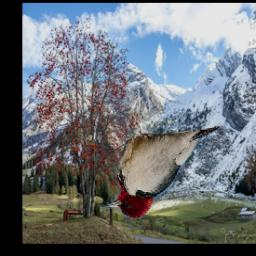Woodpecker: (102, 126, 221, 218)
